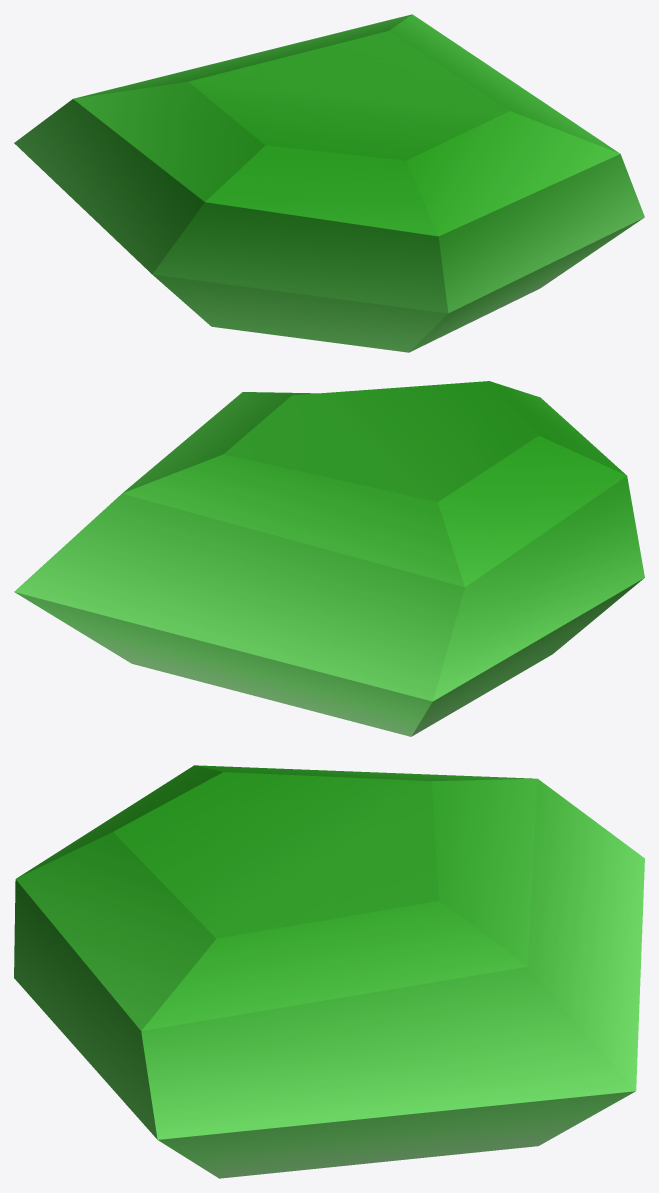
Rendered from Cristal03.fbx.
3 renders of one model, top to bottom at view 1: azimuth 30°, elevation 25°; view 2: azimuth 150°, elevation 25°; view 3: azimuth 270°, elevation 25°, orthographic. The views are drawn at different scales.
Parts seen in each view (by area): view 1: Cylinder.014; view 2: Cylinder.014; view 3: Cylinder.014.
Boxes of the visible parts, left/top/right/bottom form: Cylinder.014: left=14, top=14, right=644, bottom=352; Cylinder.014: left=14, top=381, right=644, bottom=736; Cylinder.014: left=14, top=765, right=644, bottom=1178.
Size of the model in its own units: 103 by 44.68 by 103.
